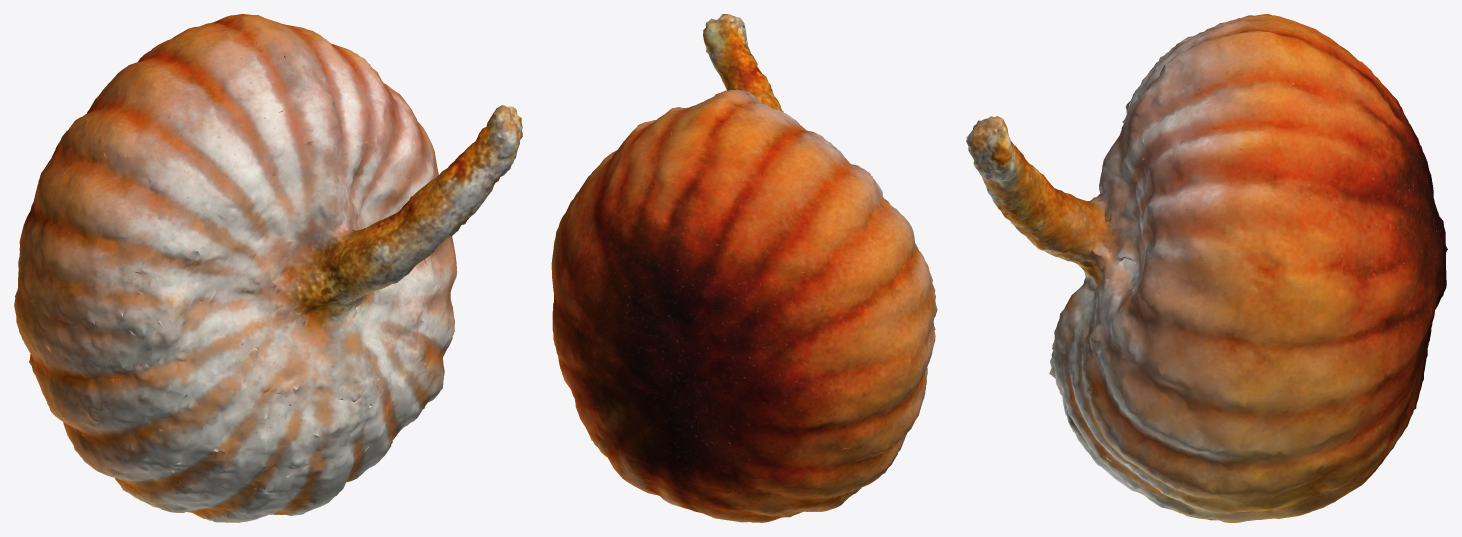
File: pumpkin_before.gltf
3 views of the same model, side by side, from view 1: azimuth 30°, elevation 25°; view 2: azimuth 150°, elevation 25°; view 3: azimuth 270°, elevation 25° (orthographic). The views are drawn at different scales.
Visible parts, largest first — view 1: model.004; view 2: model.004; view 3: model.004.
Boxes of the visible parts, left/top/right/bottom form: model.004: left=14, top=14, right=522, bottom=522; model.004: left=551, top=14, right=937, bottom=522; model.004: left=966, top=14, right=1447, bottom=522.
Bounding box in the file's own units: 0.8379 × 0.938 × 0.848.
1 material, 1 textured.
